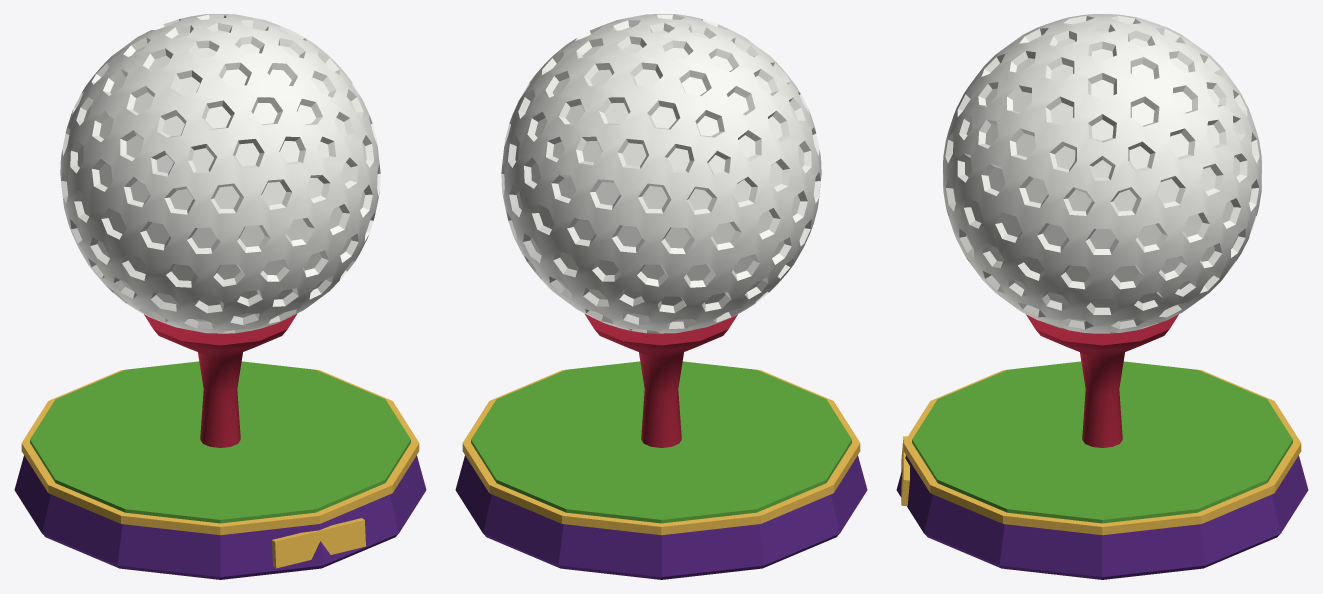
Rendered from golf_ball_statue.glb.
3 renders of one model, left to right at view 1: azimuth 30°, elevation 25°; view 2: azimuth 150°, elevation 25°; view 3: azimuth 270°, elevation 25°, orthographic.
Visible parts, largest first — view 1: golf_ball_statue; view 2: golf_ball_statue; view 3: golf_ball_statue.
Boxes of the visible parts, x1,y1,x2,y2 form: golf_ball_statue: [14, 14, 426, 579]; golf_ball_statue: [455, 14, 867, 579]; golf_ball_statue: [896, 14, 1308, 579].
Bounding box in the file's own units: 3.18 × 3.97 × 3.18.
